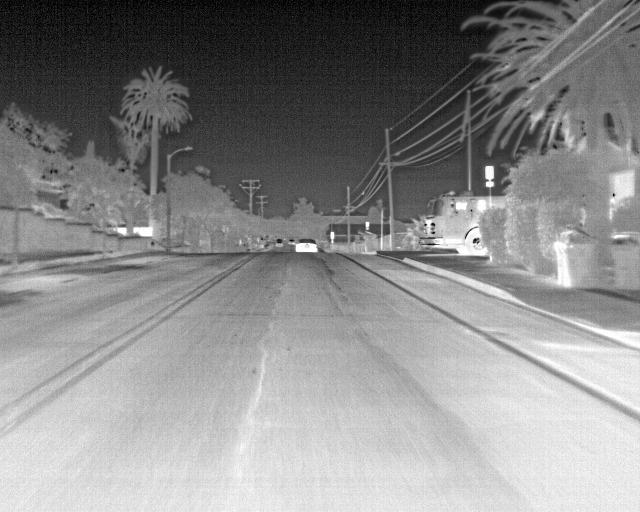car: (293, 238, 317, 253), (274, 237, 284, 248)
